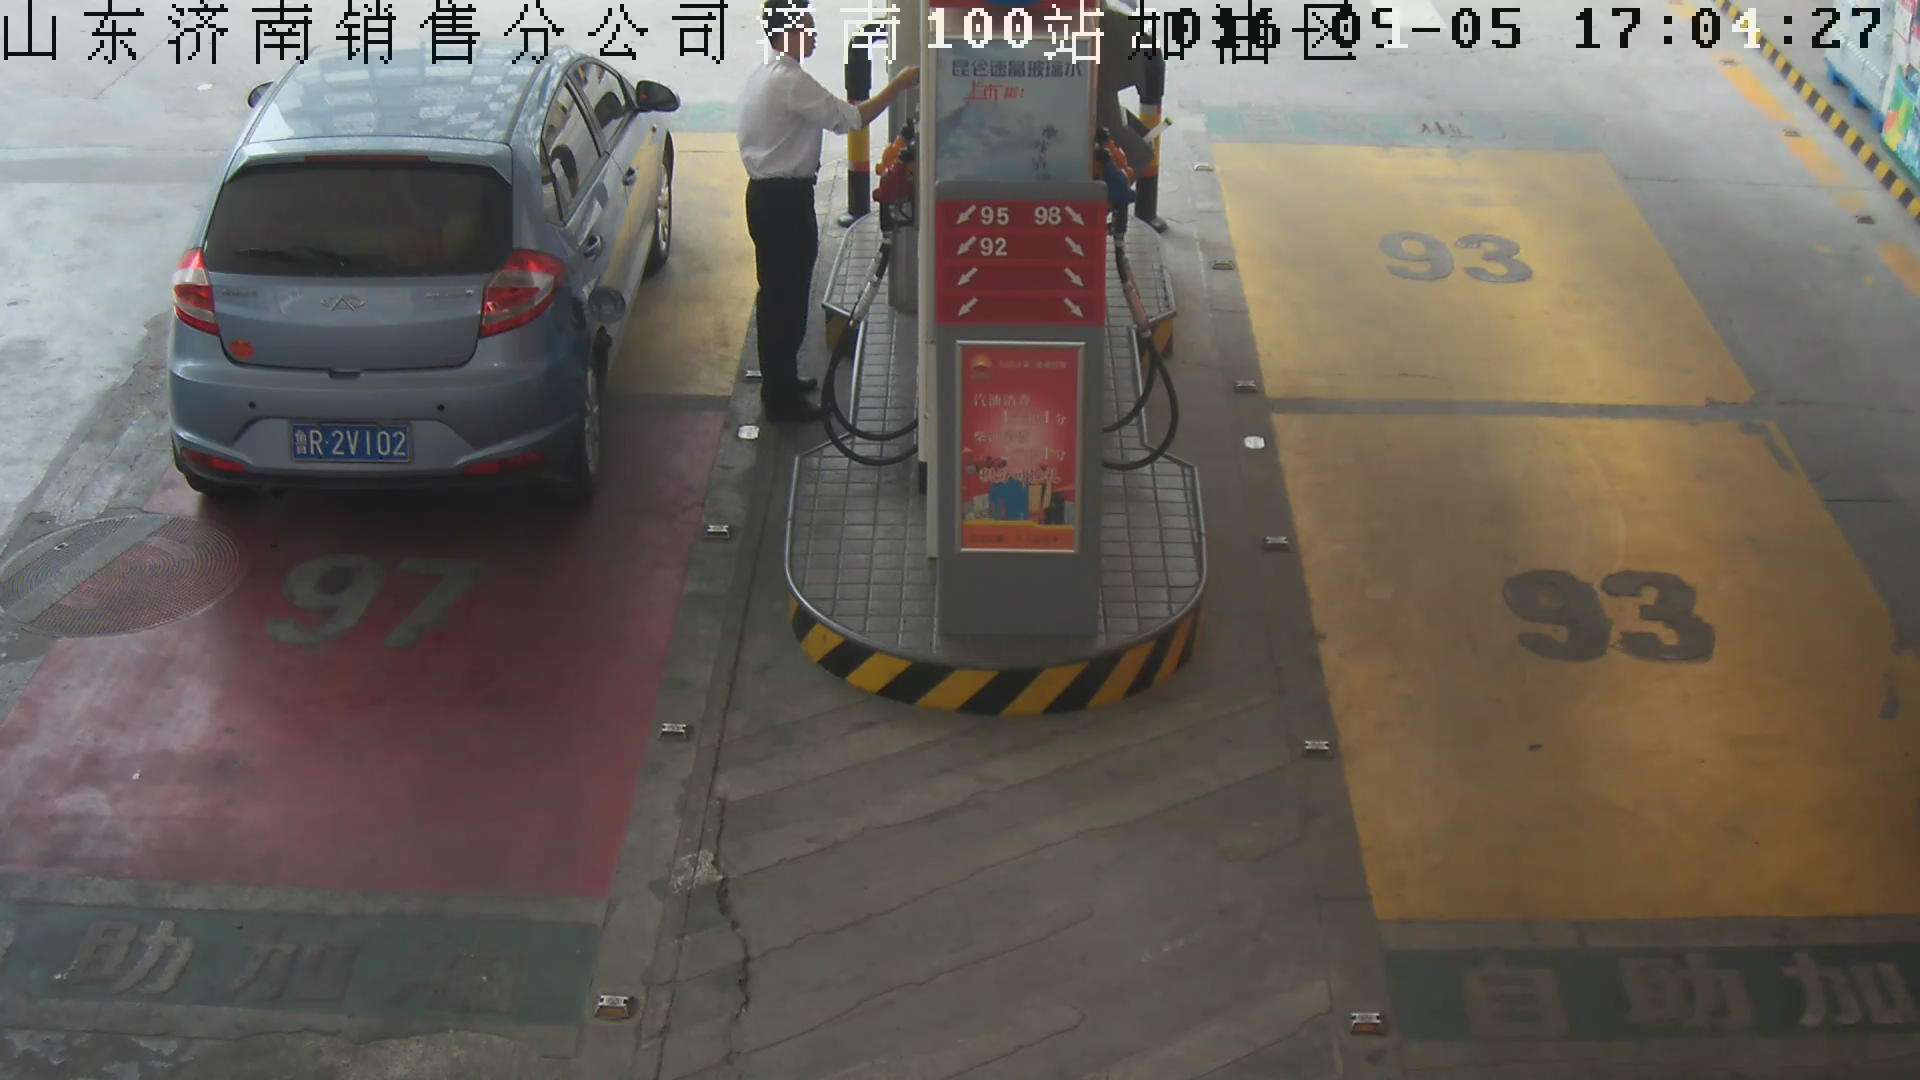blue: (291, 423, 411, 465)
